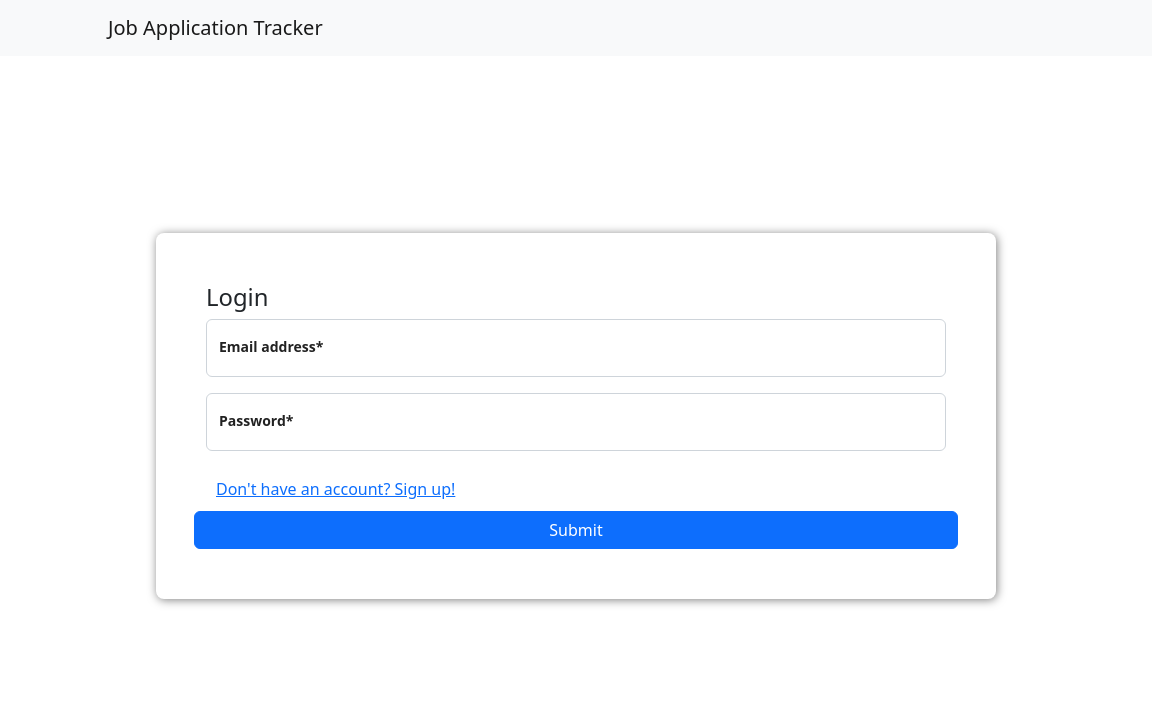
it: Login Page UI tests › Entering data tests › when login form has an emoji in email and password, there should be errors
Step 1. Type "HelloWorld🤣" into the field with test id "emailField" → (576, 348), box 206,319 -> 946,377
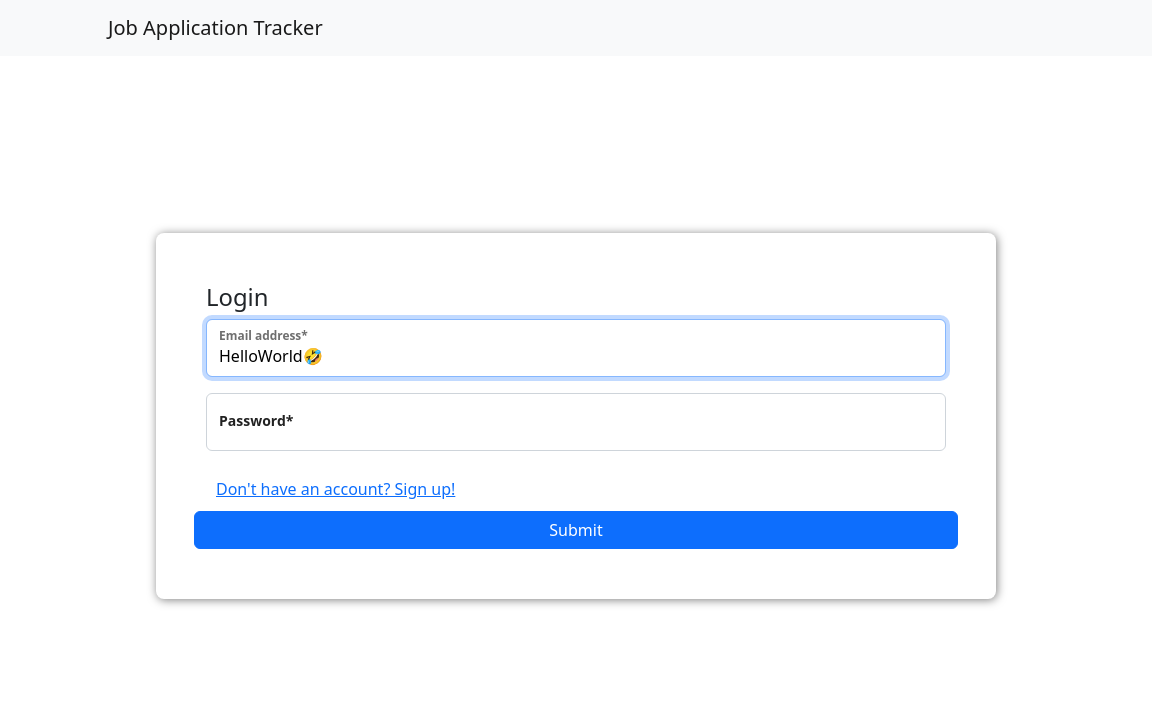
Step 2. Type "HelloWorld🤣;" into the password field with test id "passwordField" → (576, 422), box 206,393 -> 946,451
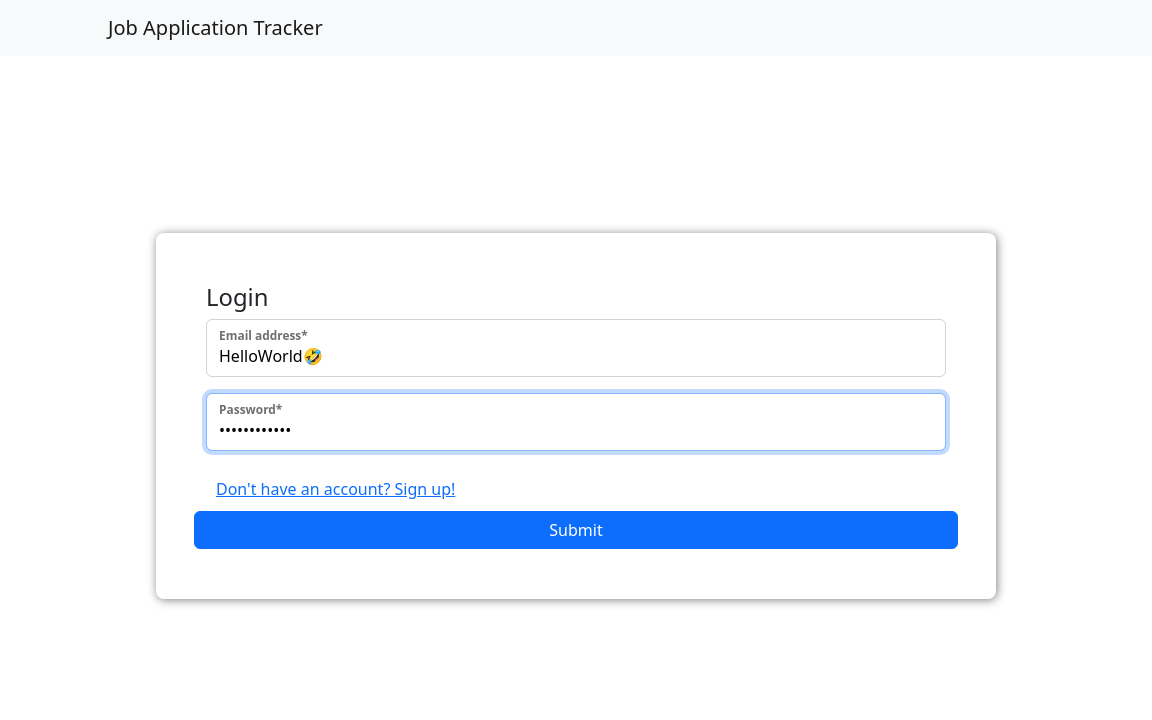
Step 3. Click the button with test id "loginSubmit" → (576, 530), box 194,511 -> 958,549
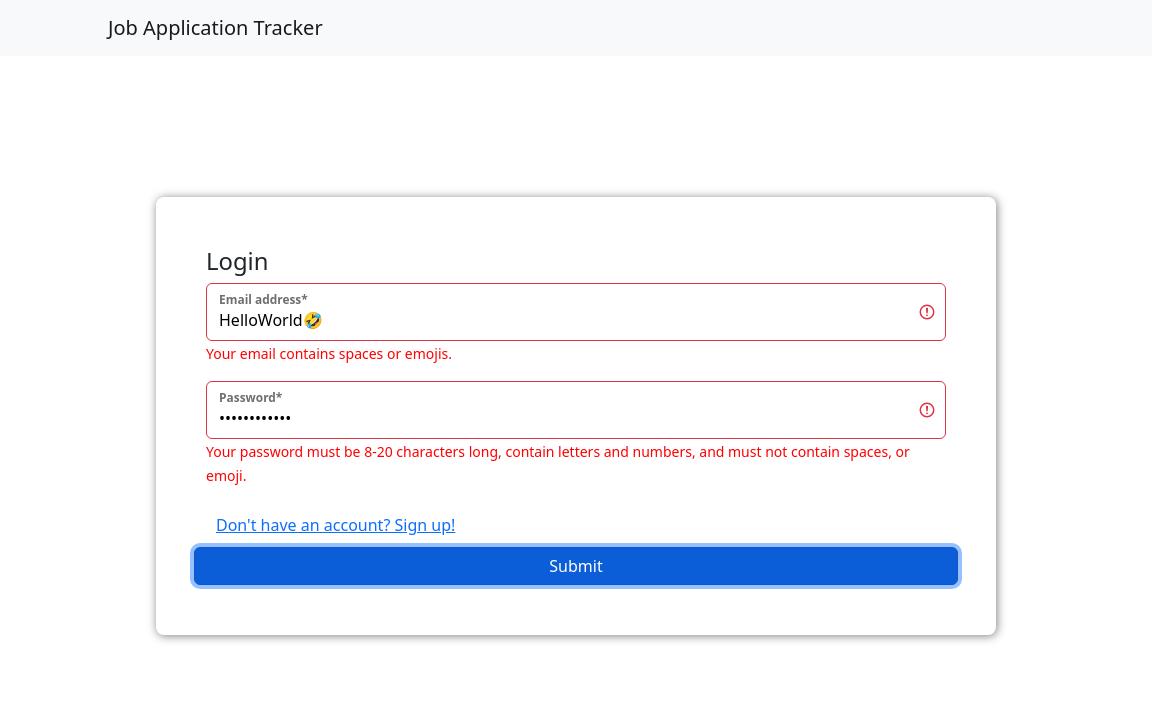
Expected: the text "Your email contains spaces or emojis." is shown, 206,344 -> 452,363
Expected: the text with test id "passwordHelperText" is shown, 206,442 -> 910,485
